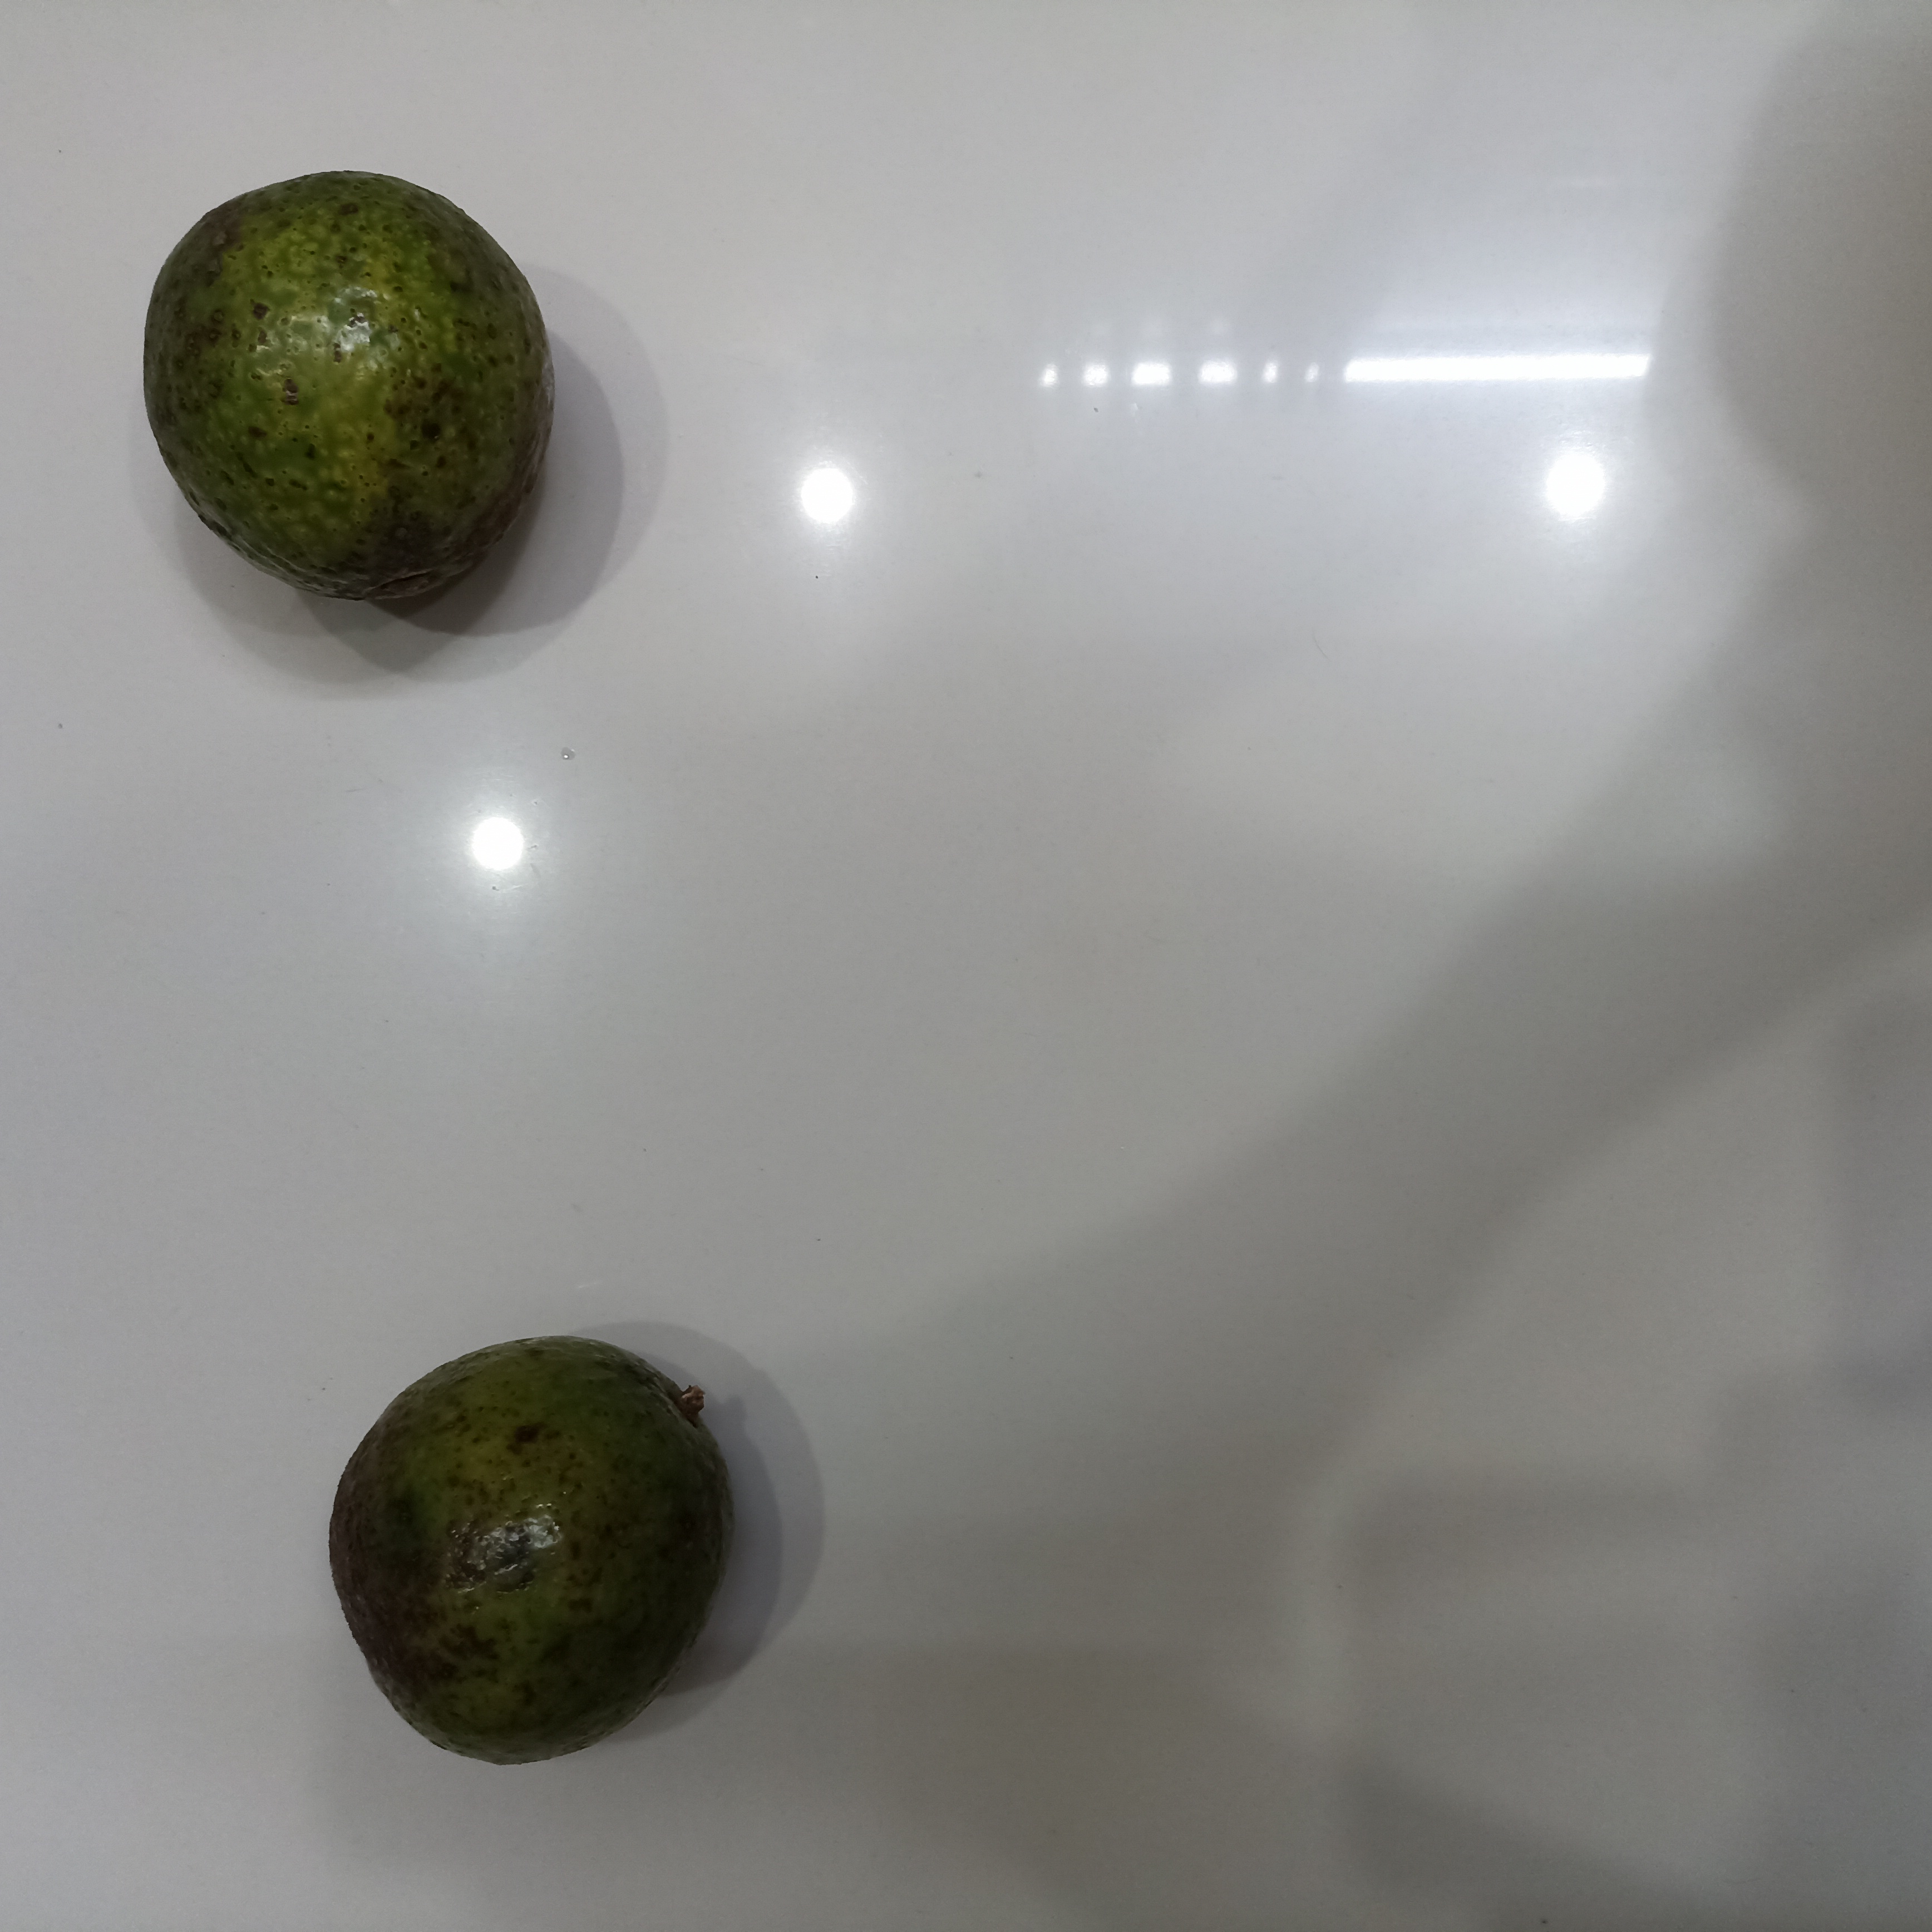Bo: (138, 161, 550, 628), (324, 1339, 734, 1773)
